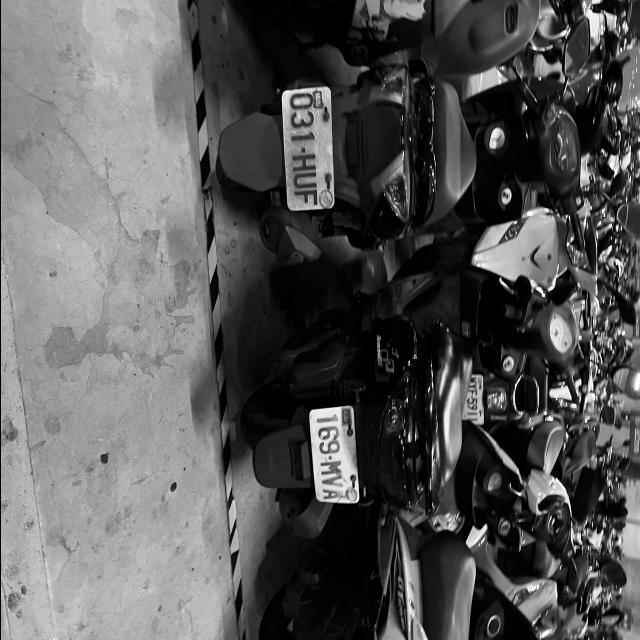-: (300, 145, 306, 154), (327, 455, 333, 461)
0: (290, 93, 314, 109)
1: (290, 131, 314, 145), (316, 412, 339, 424), (466, 412, 476, 416)
3: (289, 111, 315, 129)
5: (466, 398, 476, 404)
6: (318, 426, 340, 441)
9: (317, 440, 341, 454), (466, 404, 476, 410)
A: (319, 490, 343, 500)
F: (294, 189, 316, 207)
H: (288, 154, 316, 172)
M: (319, 462, 342, 476)
U: (292, 172, 316, 190)
V: (321, 475, 343, 487)
plate: (284, 89, 328, 209), (312, 406, 352, 508)
